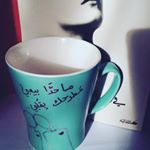cups: (3, 34, 126, 150)
